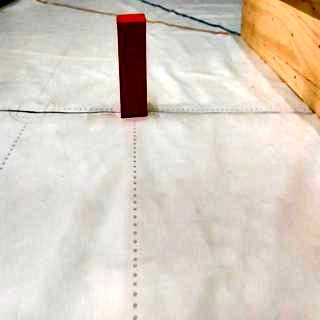redbox: (118, 13, 148, 119)
